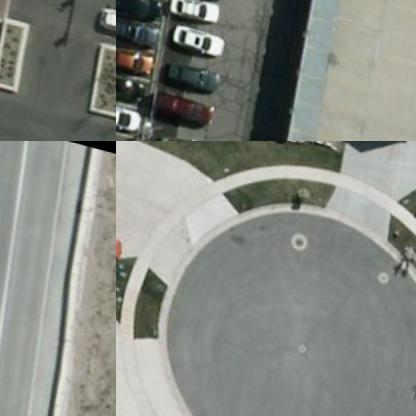car: (153, 91, 212, 130), (157, 59, 216, 98), (164, 22, 224, 60), (161, 0, 221, 32), (116, 13, 158, 53), (116, 42, 153, 82), (116, 69, 149, 109), (116, 0, 157, 26), (116, 98, 143, 137), (92, 0, 115, 38), (154, 129, 214, 140)
